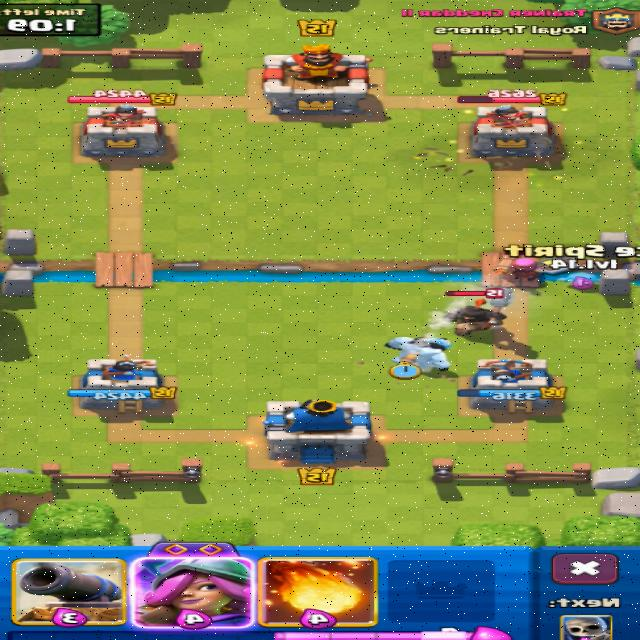Enemy-DarkPrince-Charge: (445, 287, 514, 335)
Enemy-Firecracker: (495, 257, 548, 287)
Enemy-KingTower: (263, 44, 369, 114)
Enemy-PrincessTower: (470, 105, 562, 166), (83, 104, 165, 161)
Player-IceGolem: (386, 337, 452, 372)
Player-KingTower: (263, 399, 371, 464)
Player-PrincessTower: (68, 355, 176, 413), (460, 359, 566, 412)
